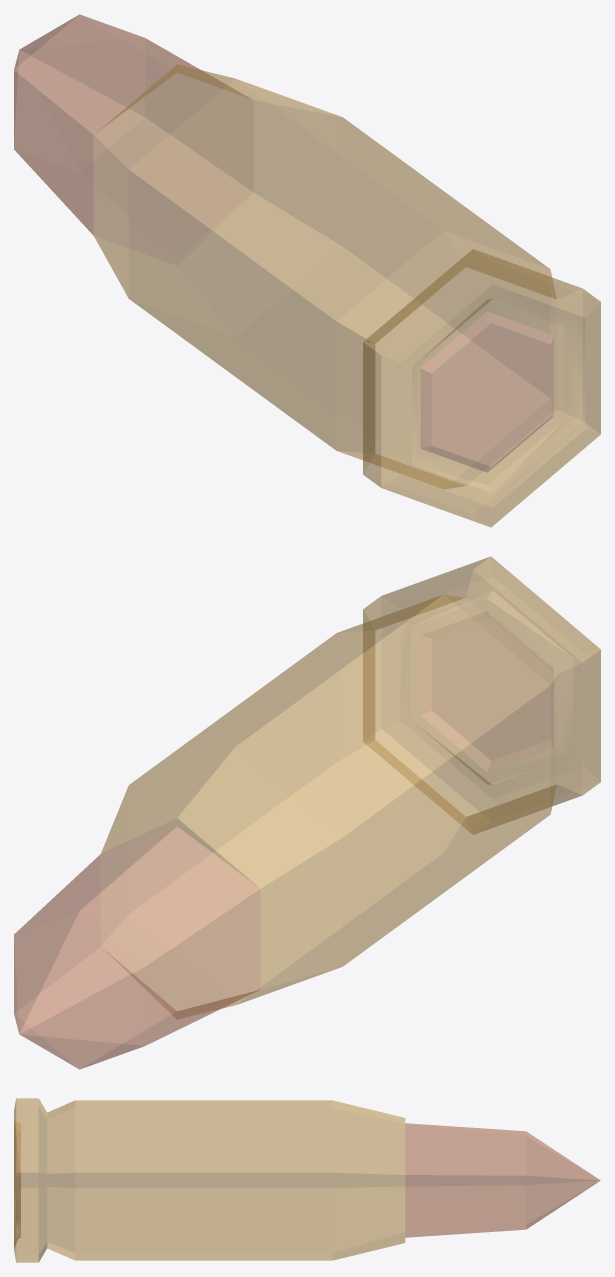
Rendered from Bullet.fbx.
3 renders of one model, top to bottom at view 1: azimuth 30°, elevation 25°; view 2: azimuth 150°, elevation 25°; view 3: azimuth 270°, elevation 25°, orthographic. The views are drawn at different scales.
Visible parts, largest first — view 1: Cube.024; view 2: Cube.024; view 3: Cube.024.
Part boxes in pixels (x1,y1,x2,y2): Cube.024: (14, 14, 600, 527); Cube.024: (14, 556, 600, 1069); Cube.024: (14, 1098, 600, 1262).
Bounding box in the file's own units: 0.5389 × 2.01 × 0.6223.
